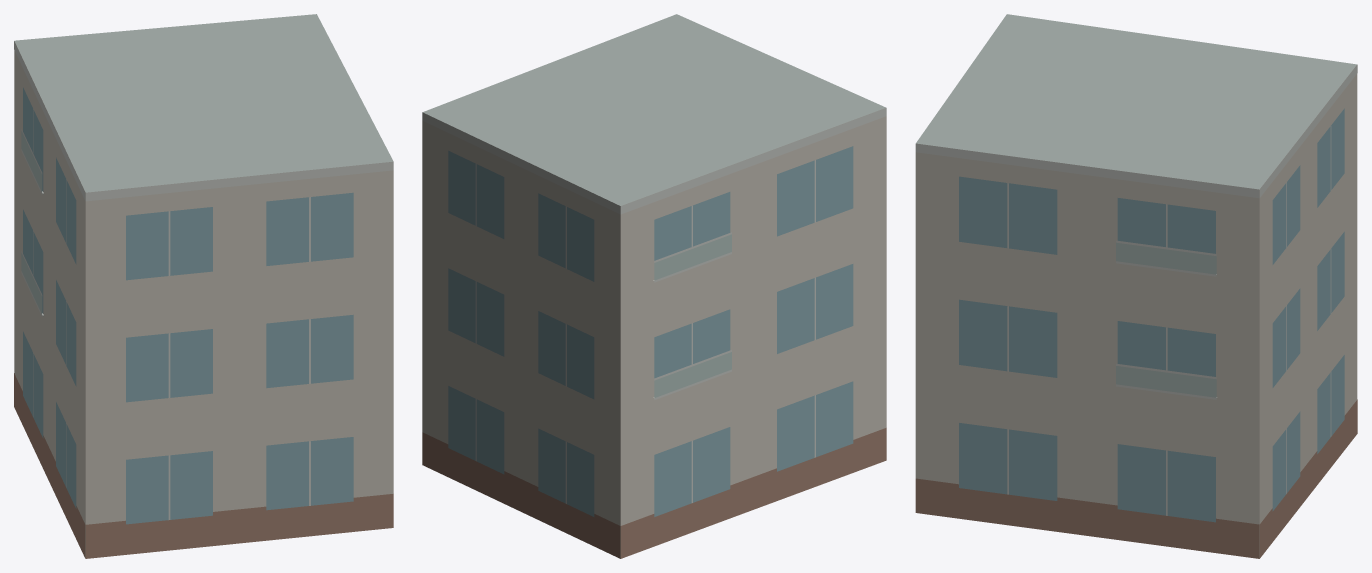
The model's file is survey-upis-32965340.glb.
3 renders of one model, left to right at view 1: azimuth 30°, elevation 25°; view 2: azimuth 150°, elevation 25°; view 3: azimuth 270°, elevation 25°, orthographic. The views are drawn at different scales.
Parts seen in each view (by area): view 1: survey-upis-32965340.tmp; view 2: survey-upis-32965340.tmp; view 3: survey-upis-32965340.tmp.
Part boxes in pixels (left/top/right/bottom): survey-upis-32965340.tmp: left=14, top=14, right=393, bottom=558; survey-upis-32965340.tmp: left=422, top=14, right=886, bottom=558; survey-upis-32965340.tmp: left=915, top=14, right=1357, bottom=558.
Bounding box in the file's own units: 10.4 × 10.2 × 11.06.
